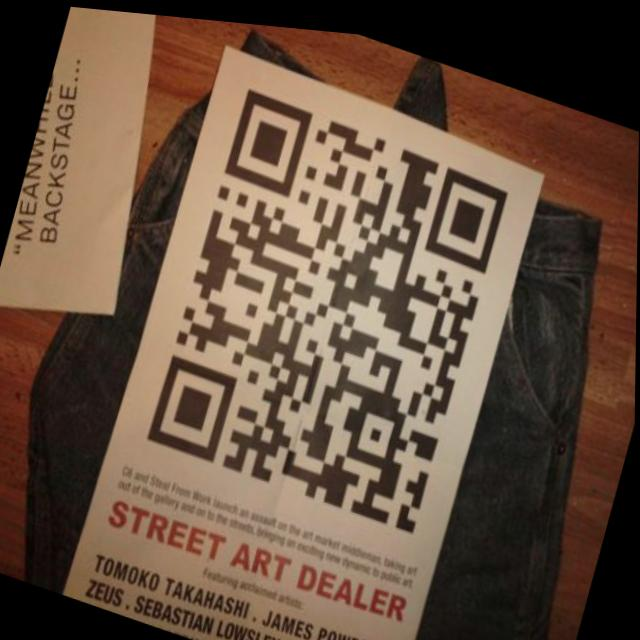qrcode: (148, 75, 511, 532)
